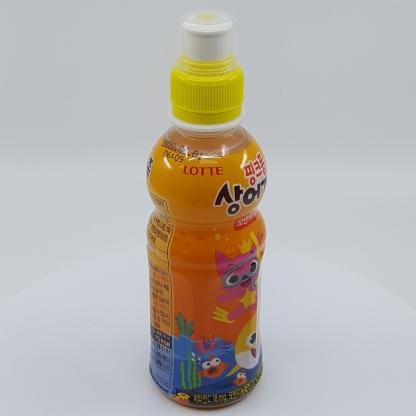----------235ML: (146, 8, 267, 408)
